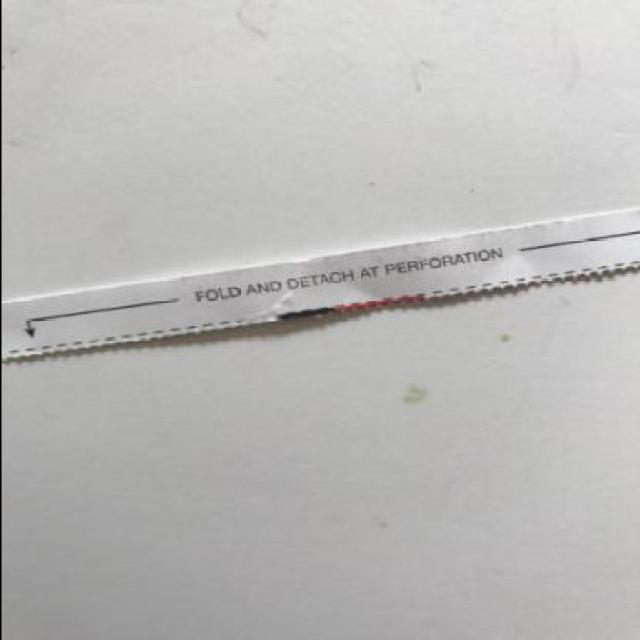PAPER: (1, 206, 638, 363)
